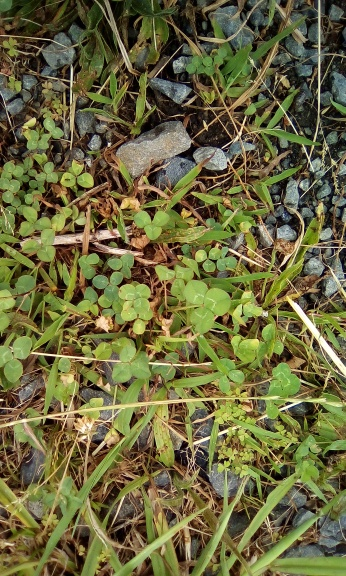4leaf: (118, 283, 151, 316)
